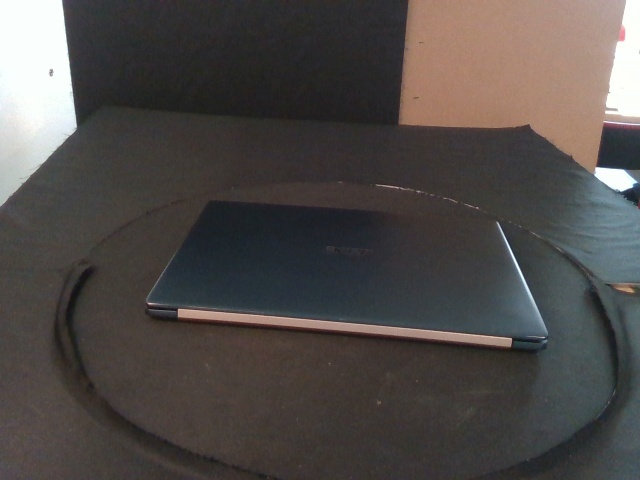laptop: (144, 199, 549, 353)
